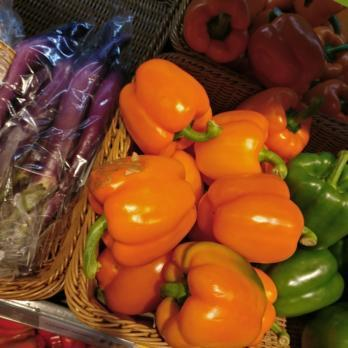Capsicum: (90, 157, 348, 347), (180, 0, 348, 81), (214, 82, 342, 164), (115, 56, 214, 155)
